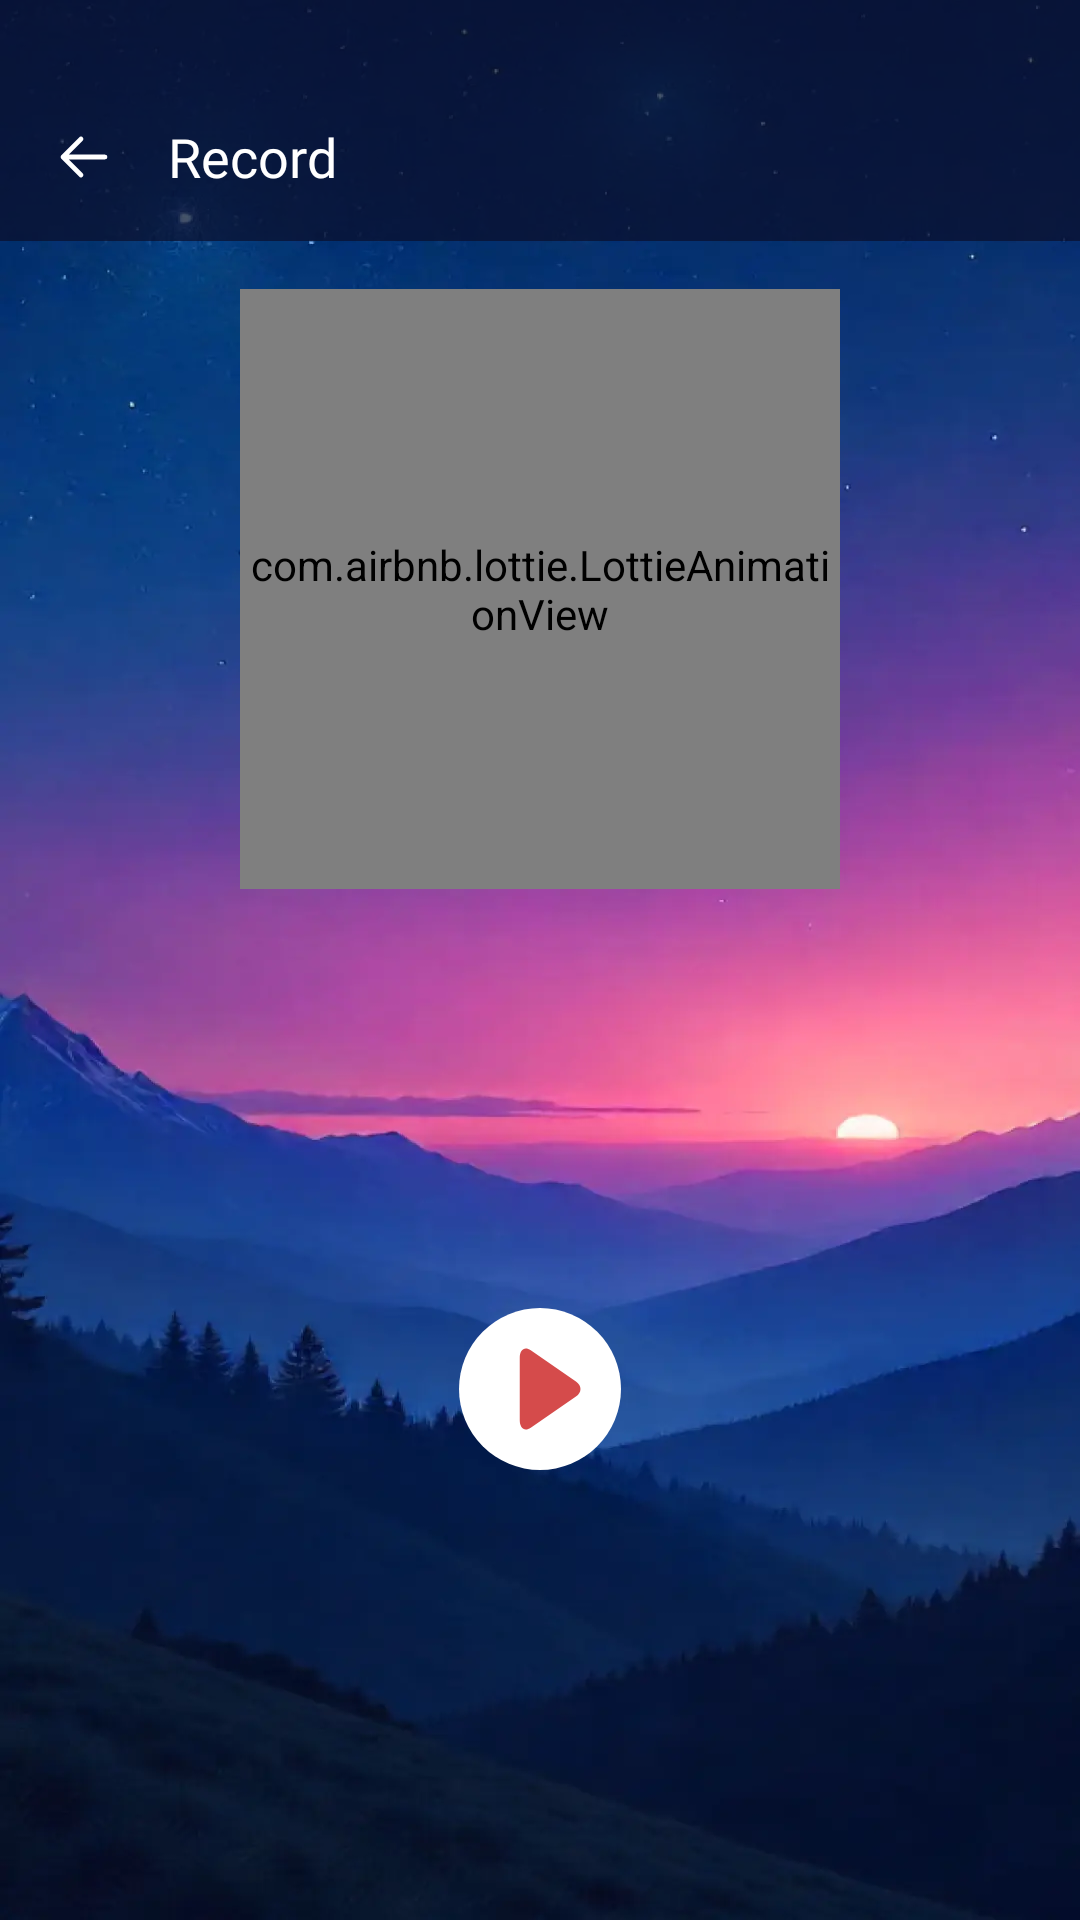

Where to tap for icons on this 1080×1920 app screen, as [x,y]:
back: [84,157]
play sound: [540,1389]
